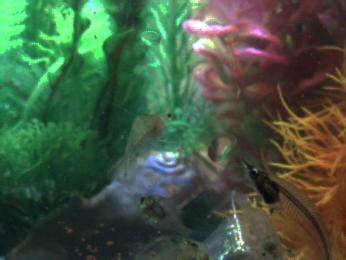X-ray fish: (135, 190, 194, 240), (133, 232, 206, 260)
glassfish: (243, 159, 332, 260)
siberian prawn: (107, 103, 175, 183)
